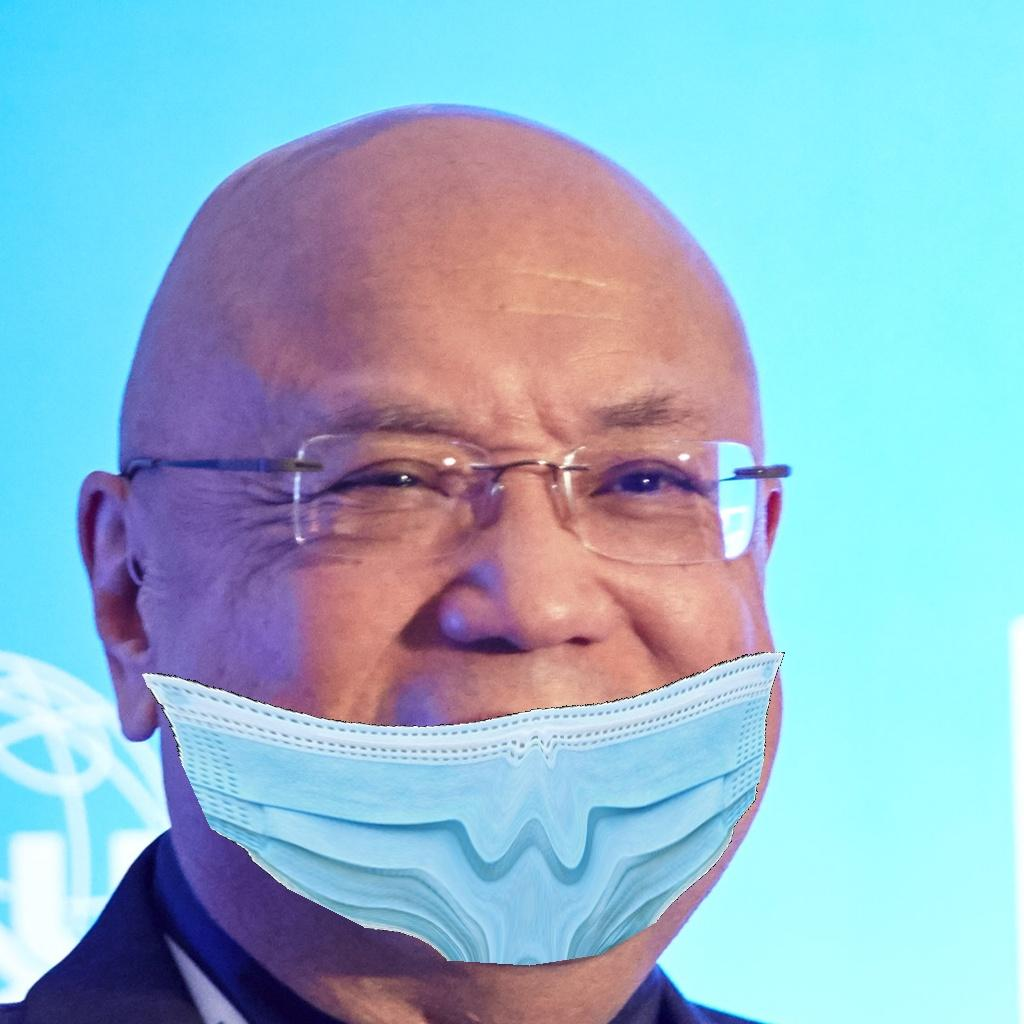Máscara Incorreta: (176, 259, 781, 958)
